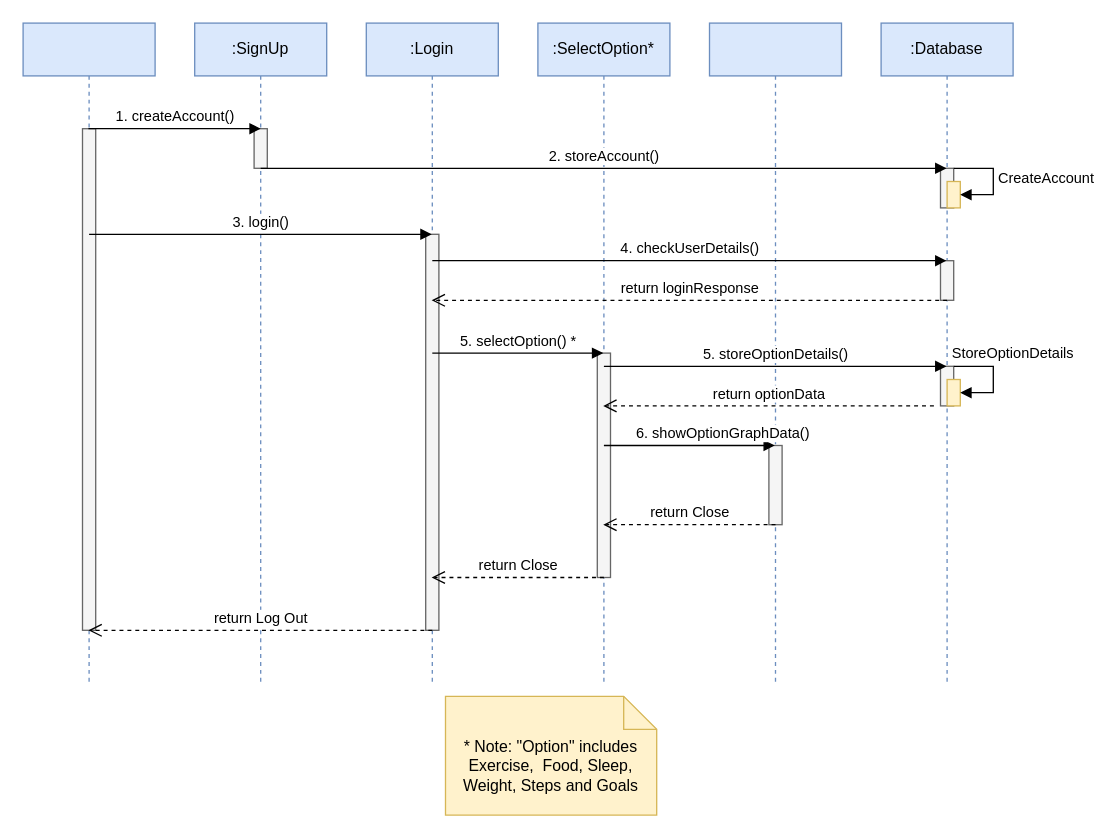
Image size: 1118x838. Some labels were removed from this diagram. Each missing label, with the box of its shape:
:Output: (708, 22, 842, 683)
:User: (22, 22, 155, 683)
